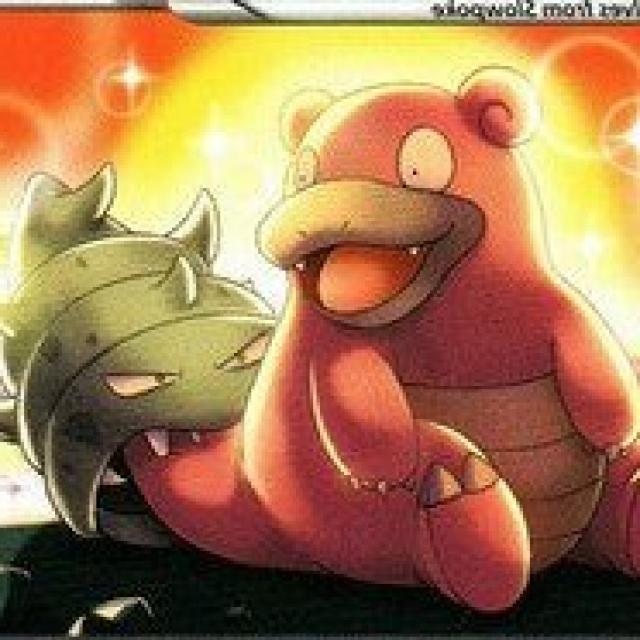Slowbro: (83, 66, 634, 584)
